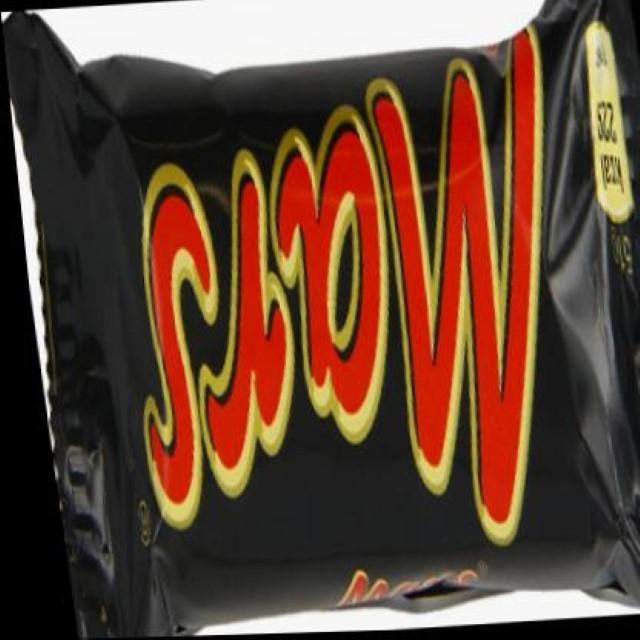mars_chocolate: (30, 60, 640, 598)
